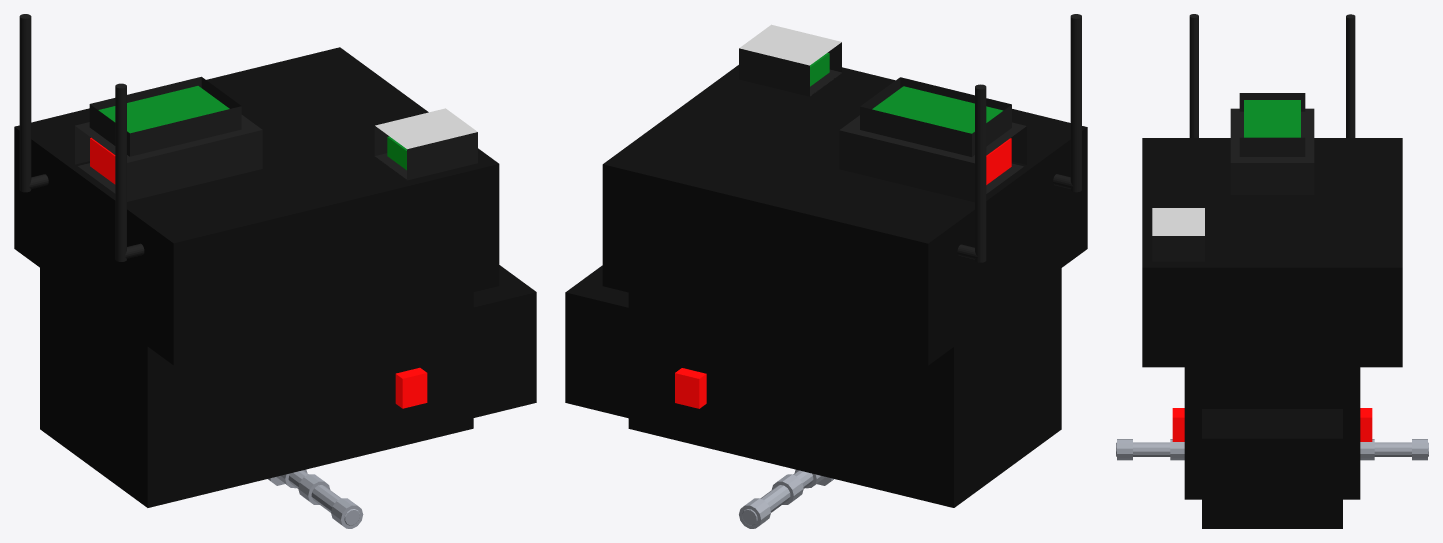
3 views of the same model, side by side, from view 1: azimuth 30°, elevation 25°; view 2: azimuth 150°, elevation 25°; view 3: azimuth 270°, elevation 25° (orthographic). The views are drawn at different scales.
Visible parts, largest first — view 1: _titanium_bar_003; view 2: _titanium_bar_003; view 3: _titanium_bar_003.
Part boxes in pixels (box(x1,y1,x2,y2)): _titanium_bar_003: box(14, 14, 536, 528); _titanium_bar_003: box(565, 14, 1087, 528); _titanium_bar_003: box(1116, 14, 1428, 528).
Bounding box in the file's own units: 0.342 × 0.2667 × 0.3503.
